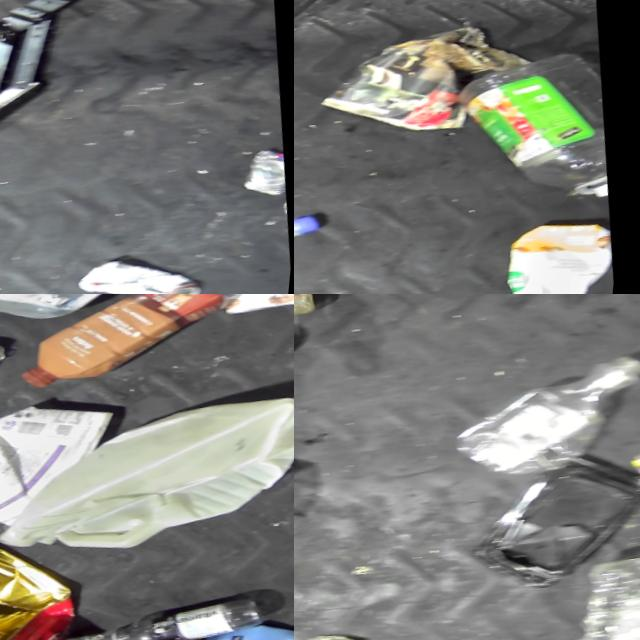can: (74, 241, 214, 294), (0, 322, 29, 379)
milk_jug: (0, 374, 294, 572)
non_white_jug: (13, 294, 243, 400)
plastic_bottle: (455, 38, 624, 216), (449, 339, 640, 478), (101, 581, 294, 640), (570, 539, 640, 640)
